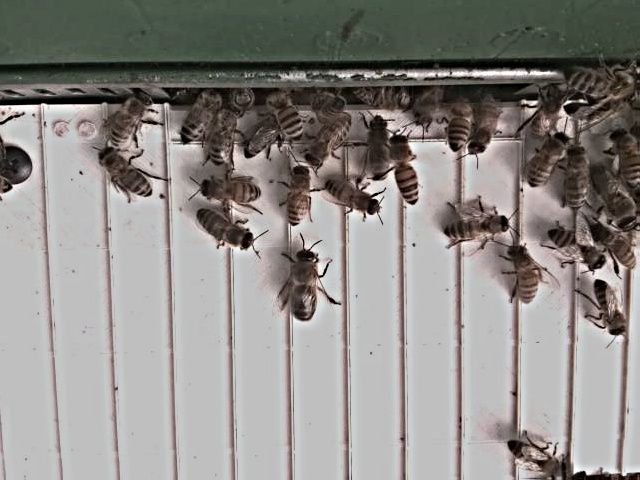Drone: (286, 247, 323, 325)
Worker: (97, 147, 159, 202), (545, 228, 610, 274), (198, 206, 257, 256), (527, 130, 571, 192), (306, 116, 354, 171), (505, 244, 542, 310), (326, 178, 385, 218), (591, 282, 630, 341), (107, 97, 151, 149), (468, 93, 503, 158), (178, 92, 220, 146), (392, 136, 423, 208), (199, 174, 264, 208), (444, 212, 513, 244), (271, 91, 308, 147), (365, 116, 394, 185), (209, 109, 241, 170), (564, 143, 590, 217), (286, 166, 314, 233)
